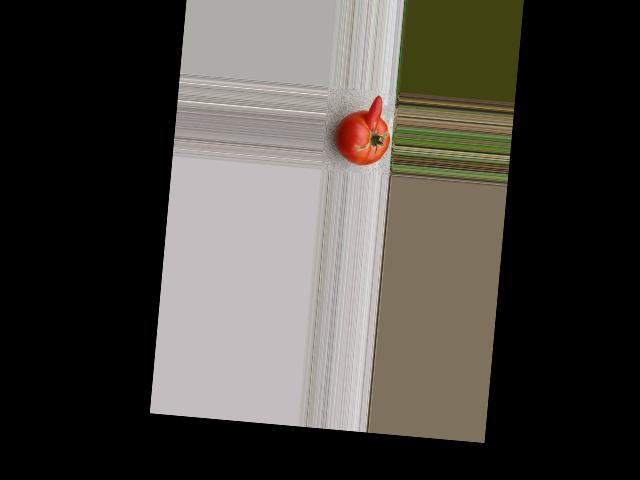tomato: (334, 108, 392, 168)
